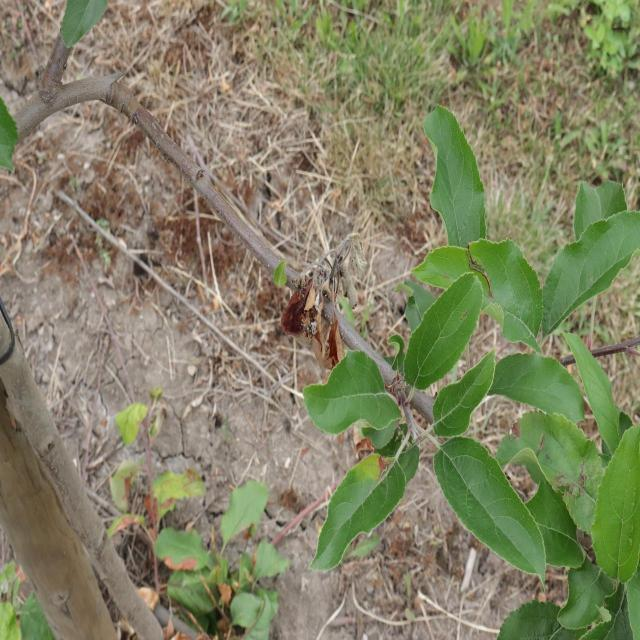-FireBlight-: (290, 273, 340, 365)
